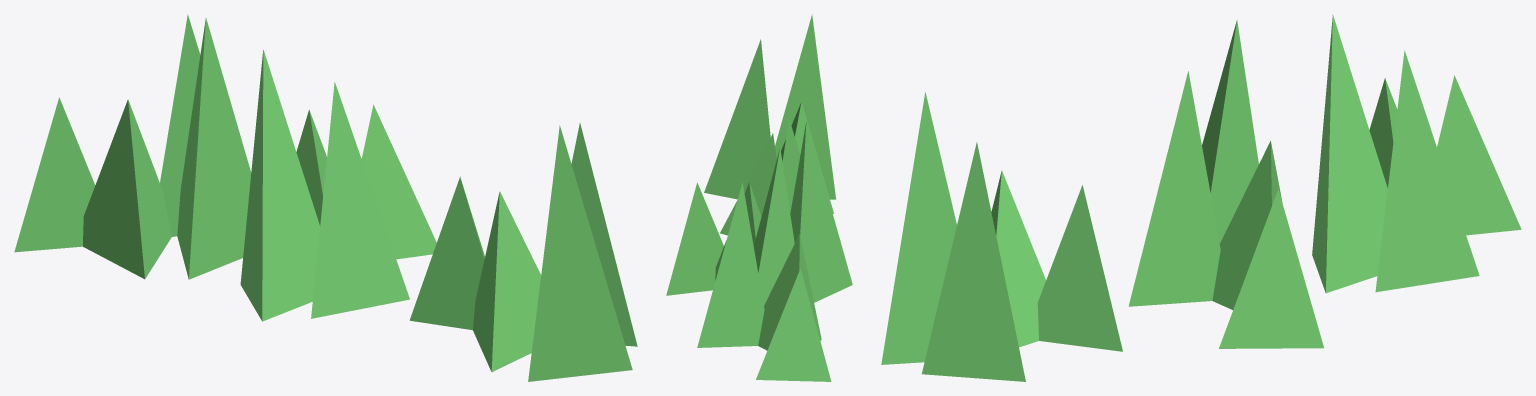
The model's file is Grass_2.fbx.
3 views of the same model, side by side, from view 1: azimuth 30°, elevation 25°; view 2: azimuth 150°, elevation 25°; view 3: azimuth 270°, elevation 25° (orthographic). The views are drawn at different scales.
Parts seen in each view (by area): view 1: Cone.011; view 2: Cone.011; view 3: Cone.011.
Part boxes in pixels (x1=…): Cone.011: x1=14, y1=14, x2=637, y2=381; Cone.011: x1=666, y1=14, x2=852, y2=381; Cone.011: x1=881, y1=15, x2=1521, y2=381.
Bounding box in the file's own units: 51.16 × 31.58 × 71.77.
